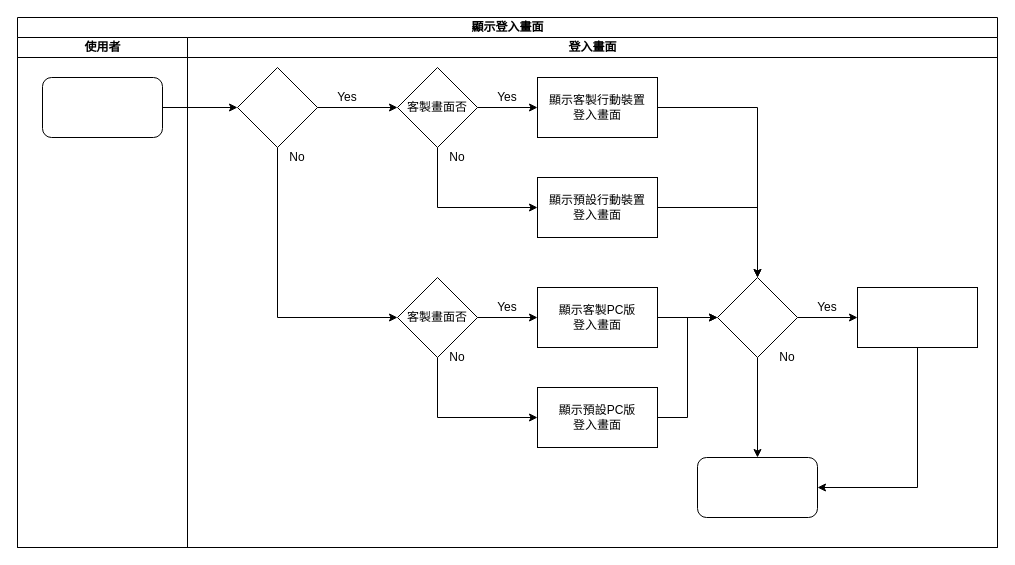
Image size: 1015x565. Some labels were removed from this diagram. The centre of each missing label's shape, as x and y in pixels:
不能申請帳號: the point at 757,317
使用瀏覽器 開啟登入畫面: the point at 102,107
行動裝置 開啟: the point at 277,107
隱藏按鈕.申請帳號: the point at 917,317
顯示畫面: the point at 757,487
